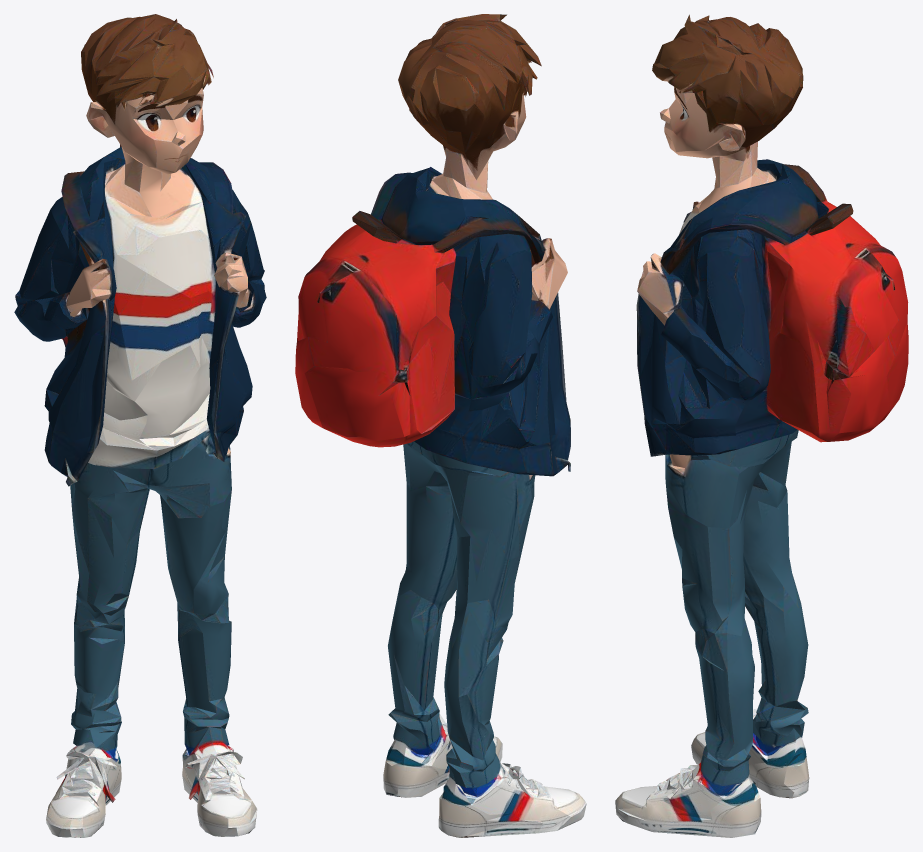
The model's file is child.glb.
3 renders of one model, left to right at view 1: azimuth 30°, elevation 25°; view 2: azimuth 150°, elevation 25°; view 3: azimuth 270°, elevation 25°, orthographic.
Size of the model in its own units: 0.5703 by 1.9 by 0.6489.
1 material, 1 textured.
